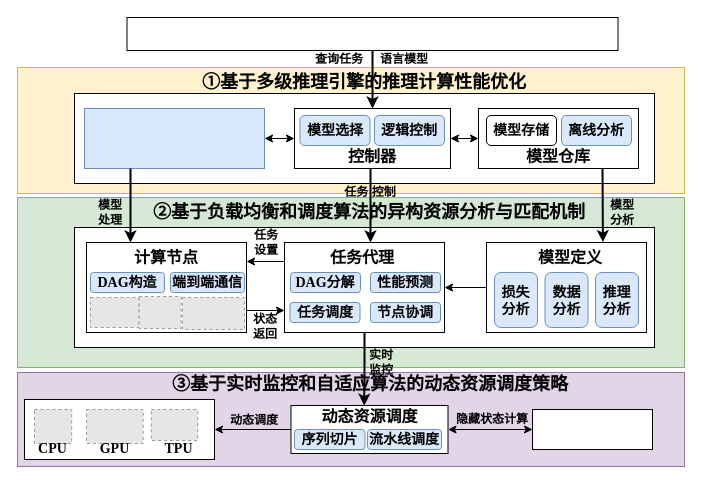
The diagram is 702 pixels wide and 484 high, and some of its shapes have lost their labels. Grey dashed boxes stand in for pictures. Here are the shapes that lost their labels. From the top down, the centre of each, then its label:
At (x=372, y=33): "推理查询队列".
At (x=174, y=138): "多级推理引擎".
At (x=592, y=429): "模型数据库".
